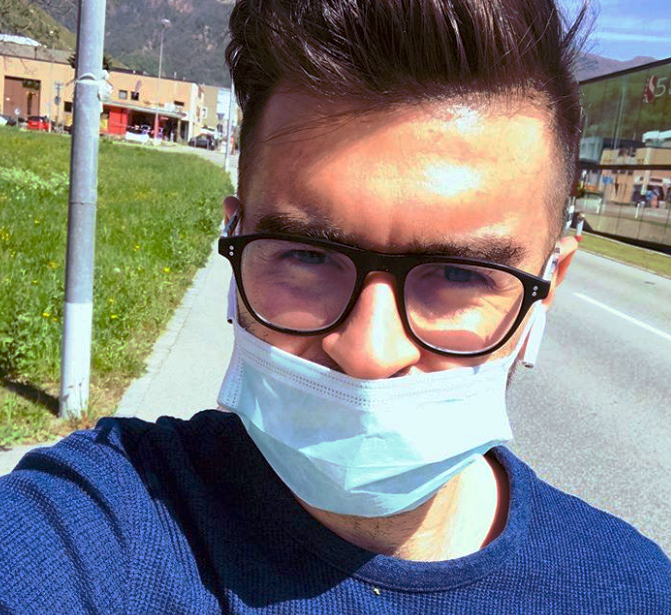mask_weared_incorrect: (213, 43, 589, 525)
